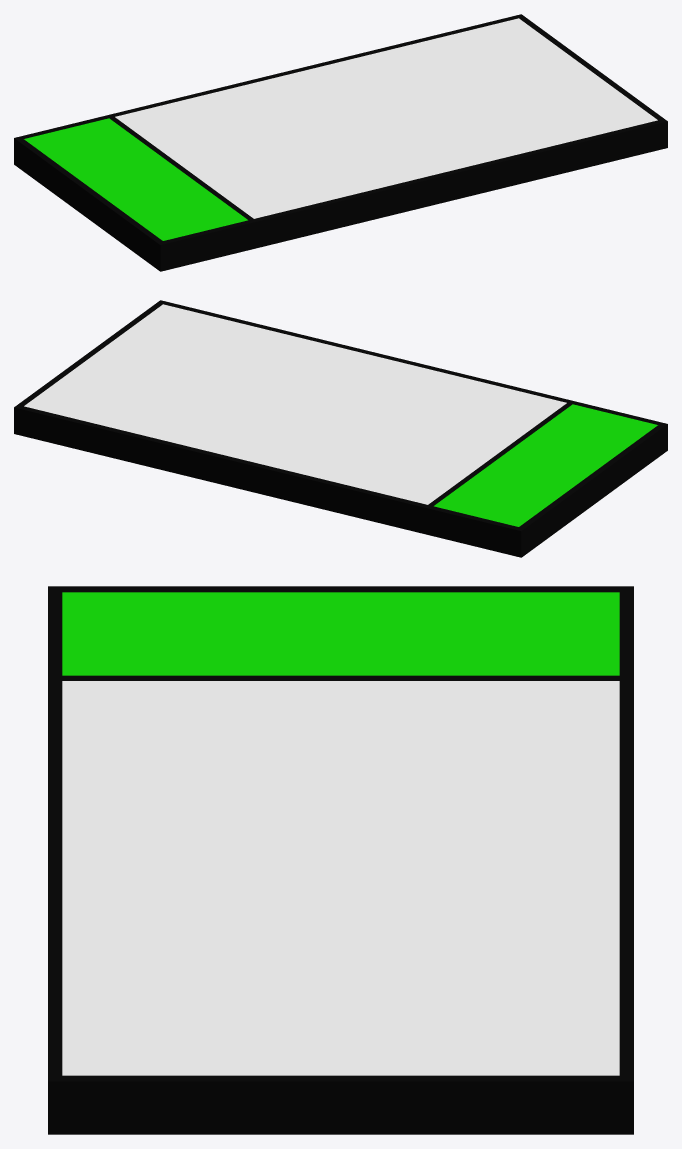
File: TileBase.fbx
3 views of the same model, one above another, from view 1: azimuth 30°, elevation 25°; view 2: azimuth 150°, elevation 25°; view 3: azimuth 270°, elevation 25° (orthographic). The views are drawn at different scales.
Visible parts, largest first — view 1: TileBase; view 2: TileBase; view 3: TileBase.
Boxes of the visible parts, <box> form: TileBase: <box>14,14,667,271</box>; TileBase: <box>14,300,667,557</box>; TileBase: <box>48,586,633,1134</box>.
Size of the model in its own units: 200 by 10 by 100.
